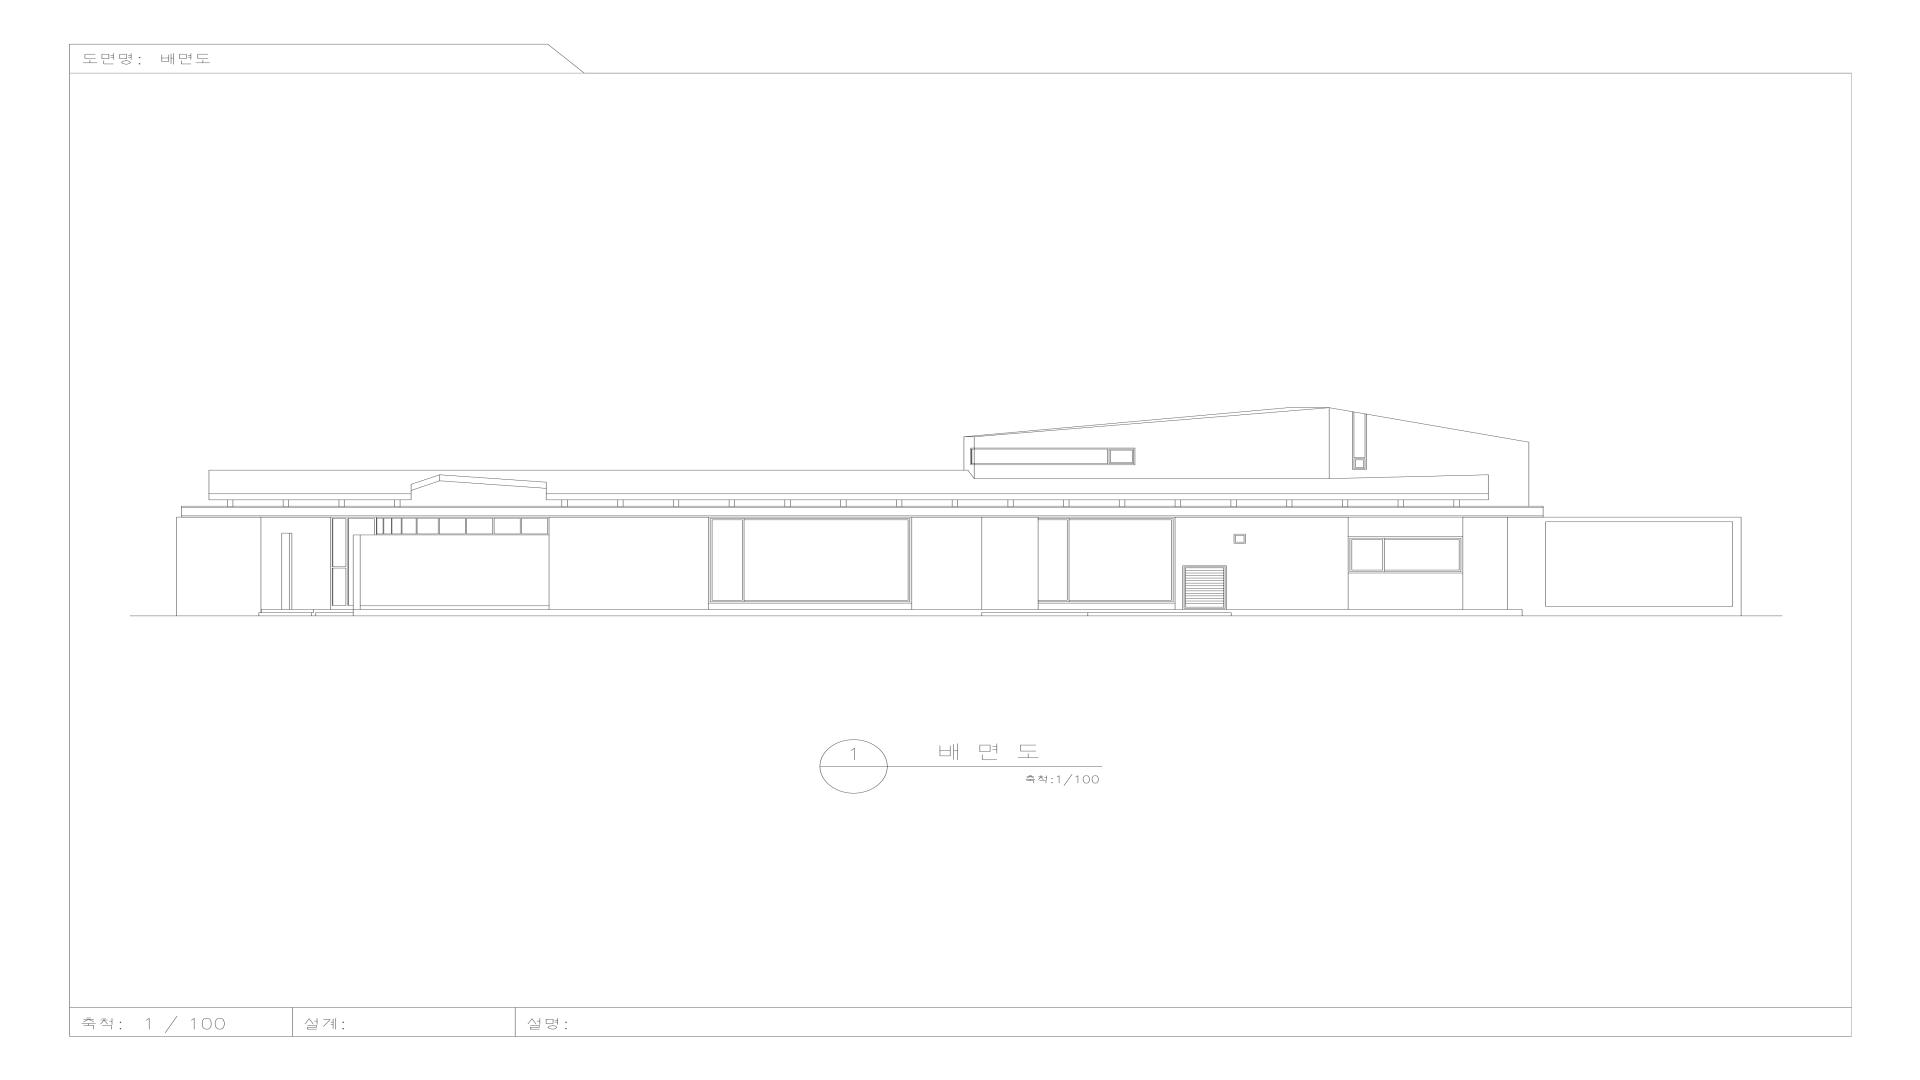wall: (177, 407, 1742, 616)
window: (708, 517, 913, 604), (1038, 517, 1175, 603), (1348, 537, 1462, 574), (376, 517, 550, 535), (971, 448, 1135, 465), (348, 518, 375, 605), (332, 518, 345, 605), (1352, 411, 1366, 469), (1233, 534, 1246, 543)
